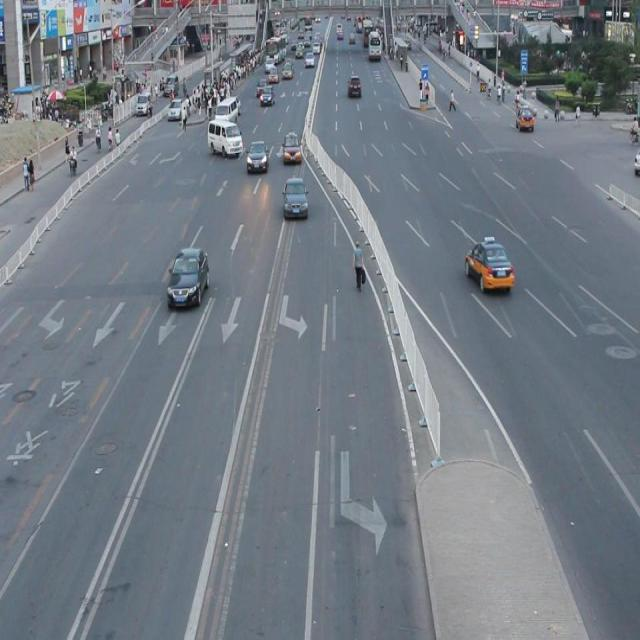car: (463, 237, 513, 293), (166, 246, 210, 309), (282, 177, 308, 220), (245, 138, 268, 176)
